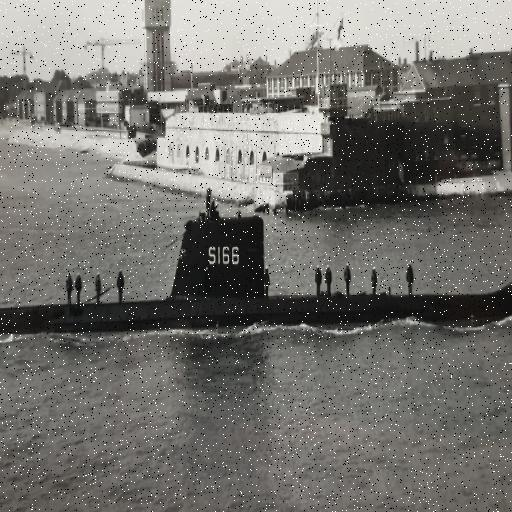submarine: (1, 218, 512, 328)
